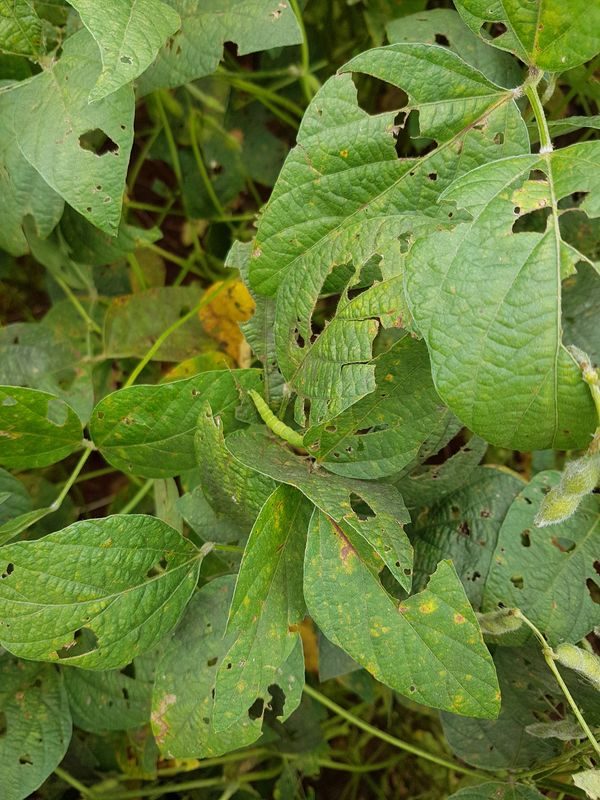Anticarsia_gemmatalis: (239, 384, 326, 457)
